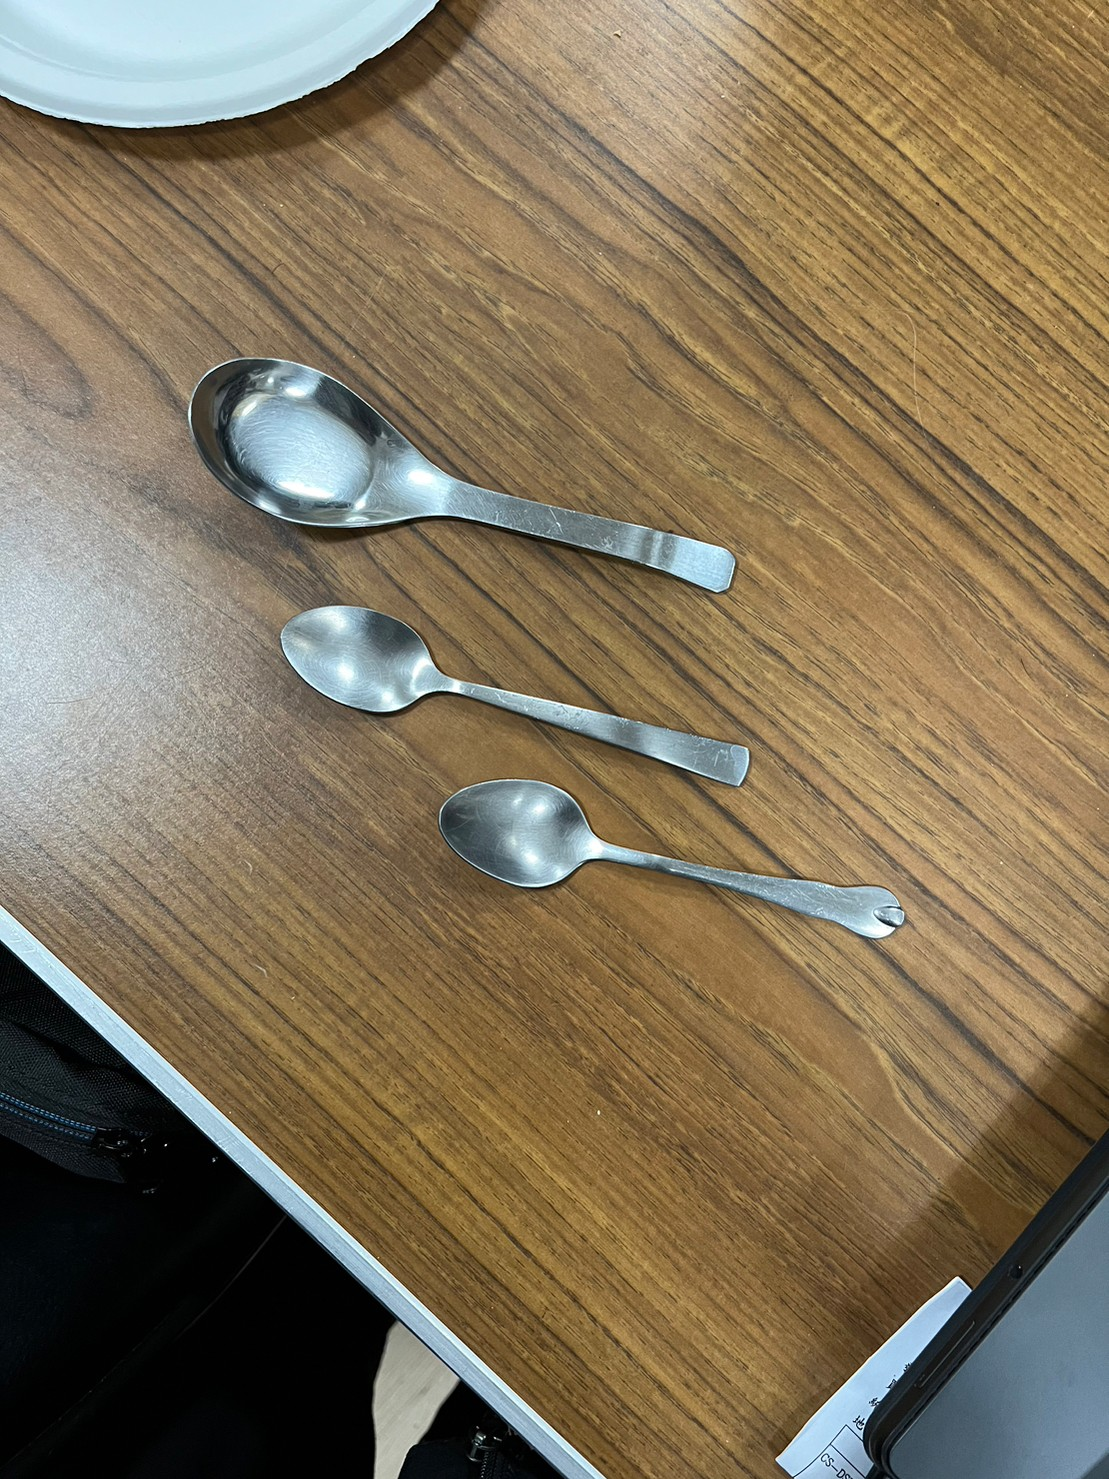spoon: (176, 333, 753, 597), (264, 580, 767, 797), (428, 765, 910, 967)
